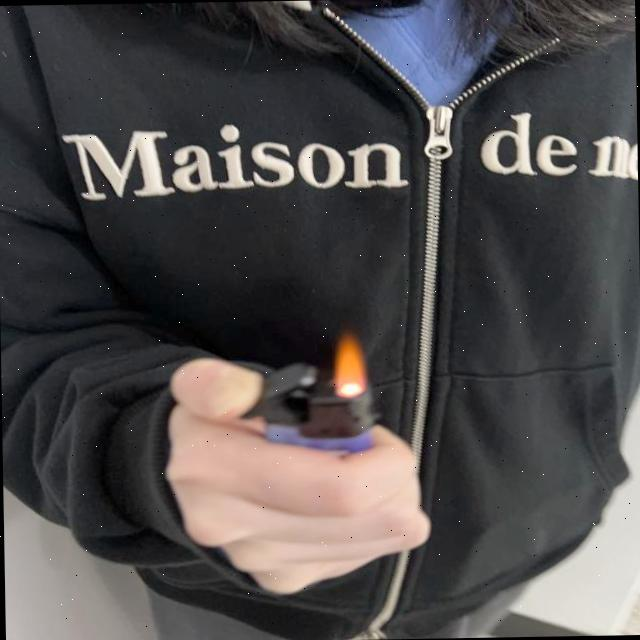fire: (332, 329, 367, 398)
